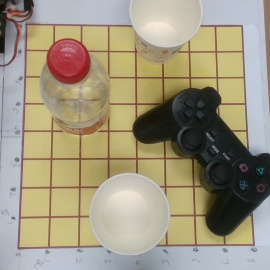bottle: (37, 38, 119, 158)
cup: (88, 171, 171, 259), (125, 1, 202, 61)
remote: (132, 85, 270, 234)
